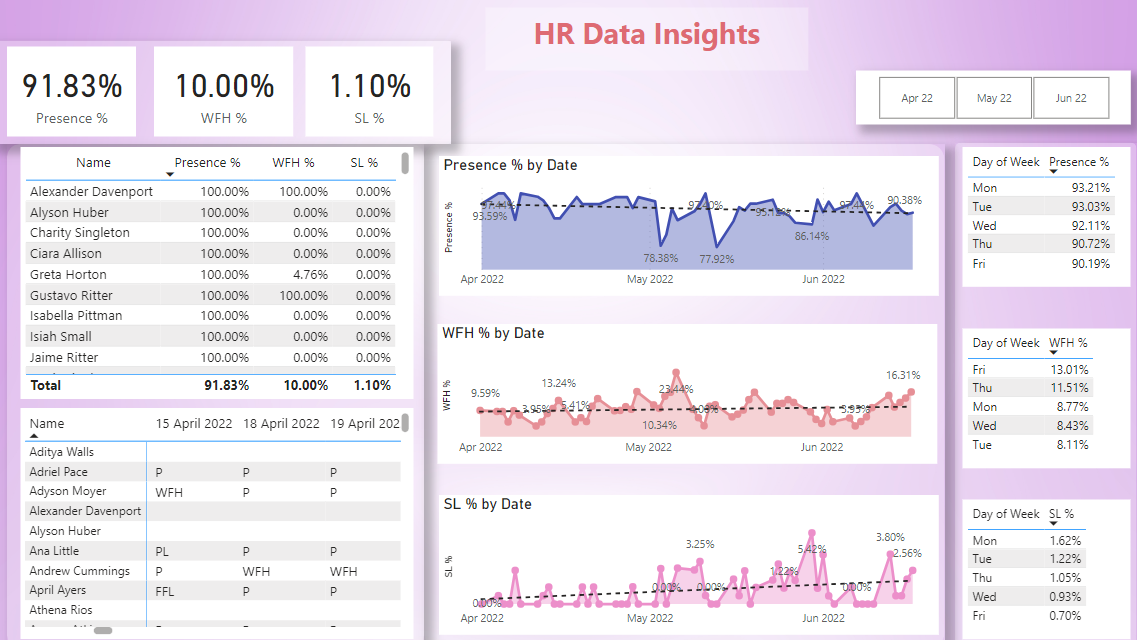

This screenshot's page, from the dashboard's own definition file:
{"tool":"powerbi","page":{"name":"Presence Insights","canvas":[1280,720],"ordinal":0},"visuals":[{"type":"shape","box":[1070,158.3,201.7,560],"z":0},{"type":"shape","box":[480,160,578.3,560],"z":1000},{"type":"shape","box":[16.7,160,463.3,560],"z":2000},{"type":"shape","box":[0,45,510,115],"z":3000},{"type":"card","fields":{"Values":["Key Measures (2).Presence %"]},"box":[17.2,51.6,143.6,100.2],"z":4000},{"type":"slicer","fields":{"Values":["Combined Data.month"]},"box":[960,78.3,305,60],"z":5000},{"type":"textbox","box":[548.3,8.3,358.3,70],"z":6000},{"type":"card","fields":{"Values":["Key Measures (2).WFH %"]},"box":[179.7,51.6,155,100.2],"z":7000},{"type":"card","fields":{"Values":["Key Measures (2).SL %"]},"box":[348.3,52,141.7,100],"z":8000},{"type":"tableEx","fields":{"Values":["Combined Data.Name","Key Measures (2).Presence %","Key Measures (2).WFH %","Key Measures (2).SL %"]},"box":[32.2,163.8,436.7,280],"z":9000},{"type":"pivotTable","fields":{"Rows":["Combined Data.Name"],"Columns":["Combined Data.Date"],"Values":["Combined Data.Value"]},"box":[31.7,453.3,436.7,256.7],"z":10000},{"type":"areaChart","fields":{"Category":["Combined Data.Date"],"Y":["Key Measures (2).Presence %"]},"box":[496.7,173.3,555,155],"z":11000},{"type":"areaChart","fields":{"Category":["Combined Data.Date"],"Y":["Key Measures (2).WFH %"]},"box":[495,360,555,155],"z":12000},{"type":"areaChart","fields":{"Category":["Combined Data.Date"],"Y":["Key Measures (2).SL %"]},"box":[496.7,550,555,155],"z":13000},{"type":"tableEx","fields":{"Values":["Combined Data.Day of Week","Key Measures (2).Presence %"]},"box":[1079.1,163.3,186.7,155],"z":14000},{"type":"tableEx","fields":{"Values":["Combined Data.Day of Week","Key Measures (2).WFH %"]},"box":[1079.1,365,186.7,155],"z":15000},{"type":"tableEx","fields":{"Values":["Combined Data.Day of Week","Key Measures (2).SL %"]},"box":[1079.1,555,186.7,155],"z":16000}]}

Visuals, with their boxes in screenshot pixels (x1, y1, x2, y2), scaled from the page's 1280x720 canvas onto the 1137x640 screenshot:
shape: (950, 141, 1130, 638)
shape: (426, 142, 940, 639)
shape: (15, 142, 426, 639)
shape: (0, 40, 453, 142)
card - Key Measures (2).Presence %: (15, 46, 143, 135)
slicer - Combined Data.month: (853, 70, 1124, 123)
textbox: (487, 7, 805, 70)
card - Key Measures (2).WFH %: (160, 46, 297, 135)
card - Key Measures (2).SL %: (309, 46, 435, 135)
tableEx - Combined Data.Name x Key Measures (2).Presence %: (29, 146, 417, 394)
pivotTable - Combined Data.Name x Combined Data.Date: (28, 403, 416, 631)
areaChart - Combined Data.Date x Key Measures (2).Presence %: (441, 154, 934, 292)
areaChart - Combined Data.Date x Key Measures (2).WFH %: (440, 320, 933, 458)
areaChart - Combined Data.Date x Key Measures (2).SL %: (441, 489, 934, 627)
tableEx - Combined Data.Day of Week x Key Measures (2).Presence %: (959, 145, 1124, 283)
tableEx - Combined Data.Day of Week x Key Measures (2).WFH %: (959, 324, 1124, 462)
tableEx - Combined Data.Day of Week x Key Measures (2).SL %: (959, 493, 1124, 631)
